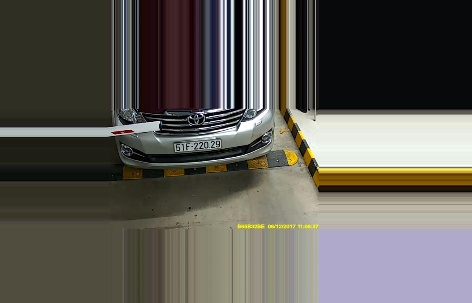plate: (172, 137, 222, 152)
